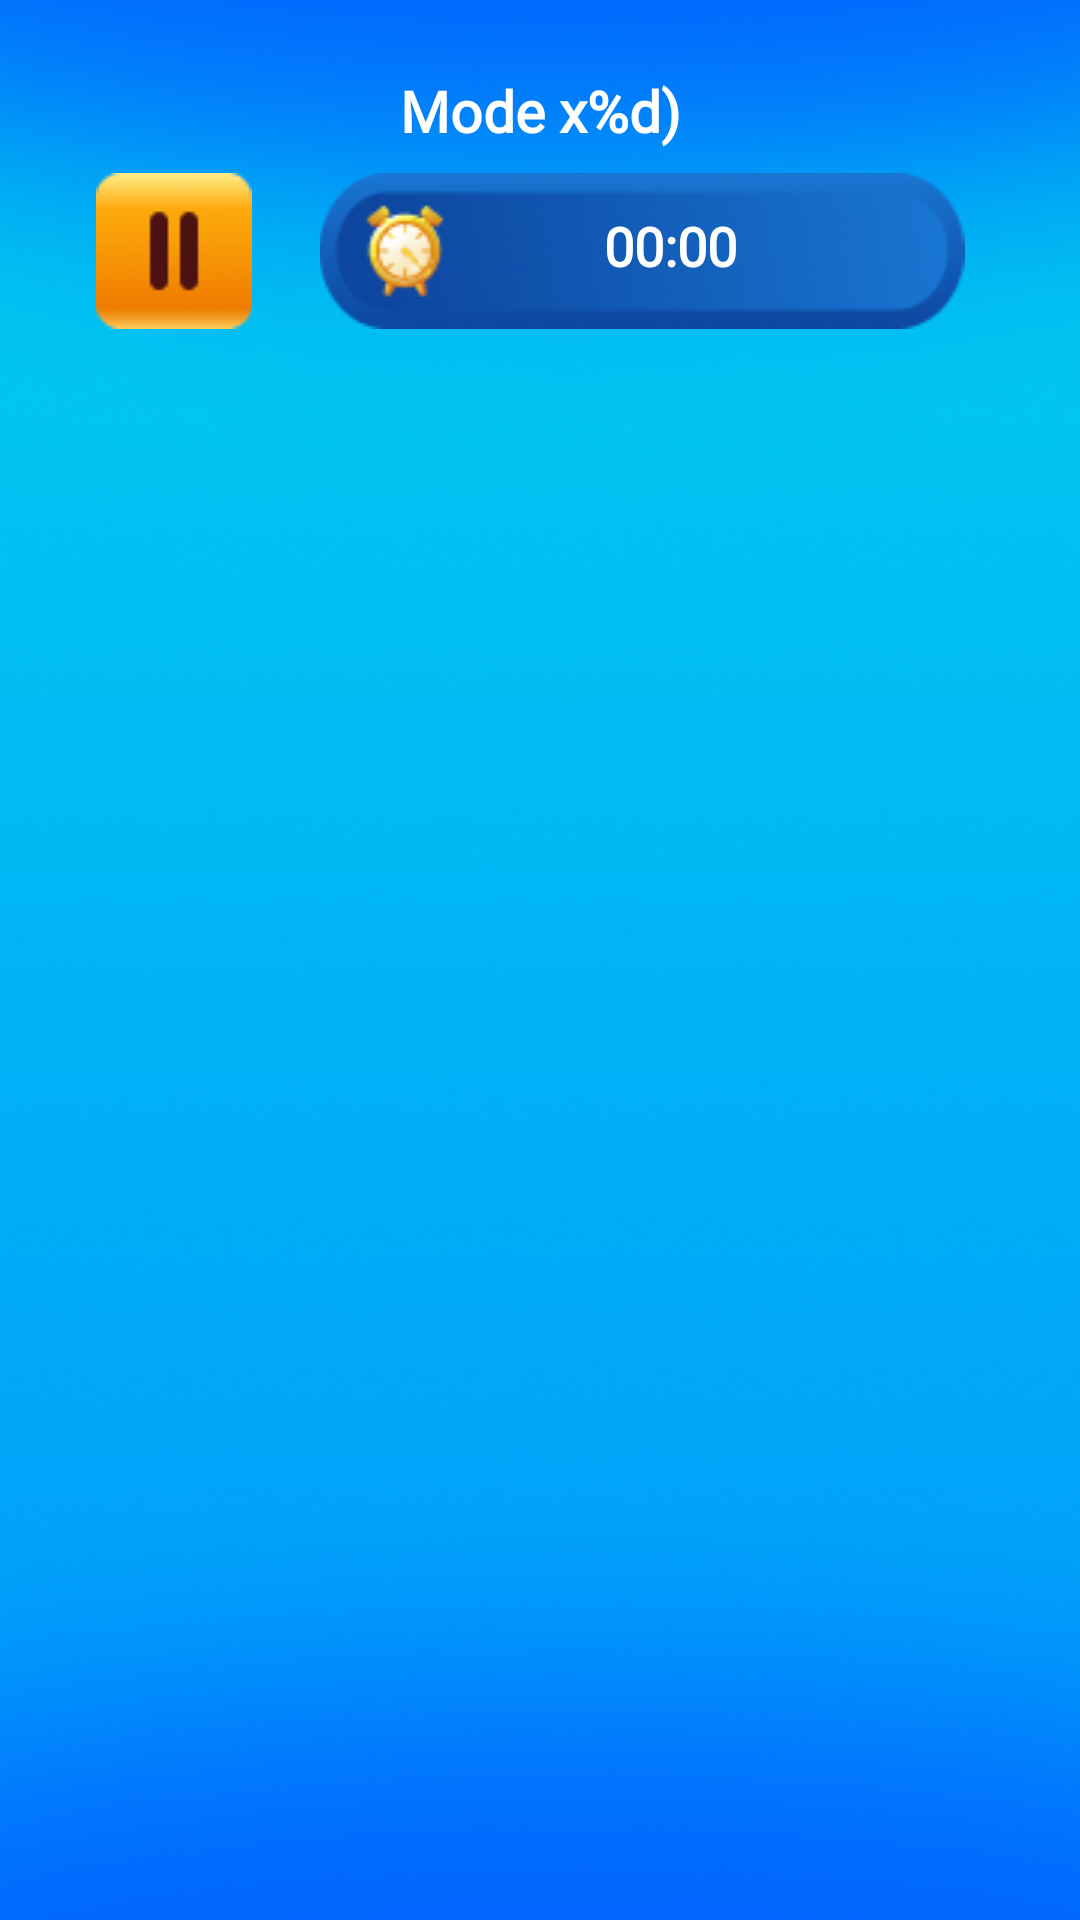

Where to tap for icons on this 1080 × 1920 app screen, as point (x, y):
Pause icon: point (174, 251)
